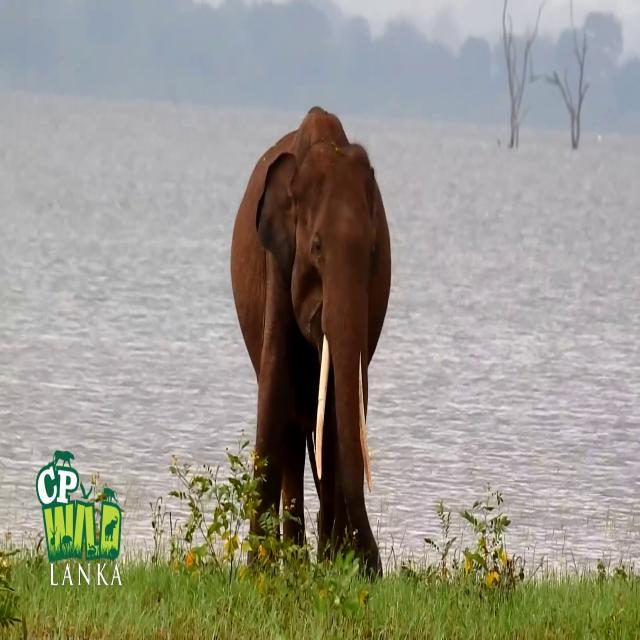Elephant: (230, 105, 392, 581)
